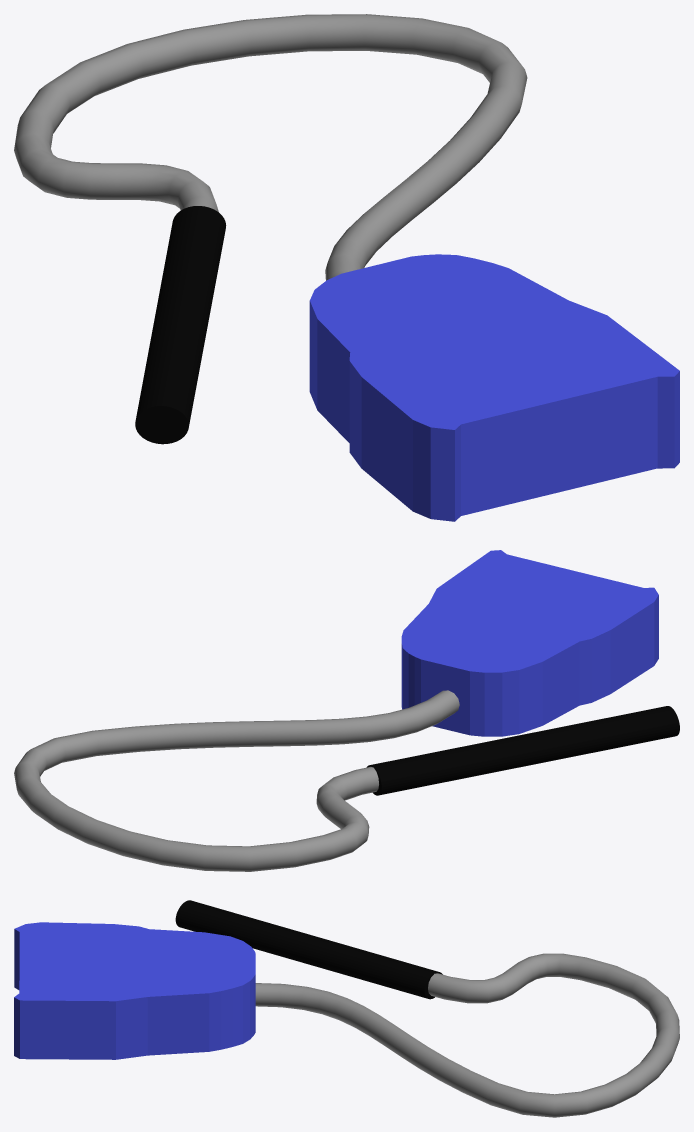
Rendered from aspirateur.fbx.
3 views of the same model, one above another, from view 1: azimuth 30°, elevation 25°; view 2: azimuth 150°, elevation 25°; view 3: azimuth 270°, elevation 25° (orthographic). The views are drawn at different scales.
Parts seen in each view (by area): view 1: Cube, BezierCurve, Cylinder; view 2: Cube, BezierCurve, Cylinder; view 3: Cube, BezierCurve, Cylinder.
Part boxes in pixels (x1,y1,x2,y2): Cube: [309, 254, 679, 521]; BezierCurve: [14, 14, 527, 280]; Cylinder: [135, 206, 226, 444]; Cube: [401, 550, 658, 736]; BezierCurve: [14, 690, 459, 871]; Cylinder: [366, 706, 679, 795]; Cube: [14, 922, 255, 1059]; BezierCurve: [255, 953, 679, 1117]; Cylinder: [175, 900, 442, 999].
Size of the model in its own units: 288 by 38.45 by 396.
